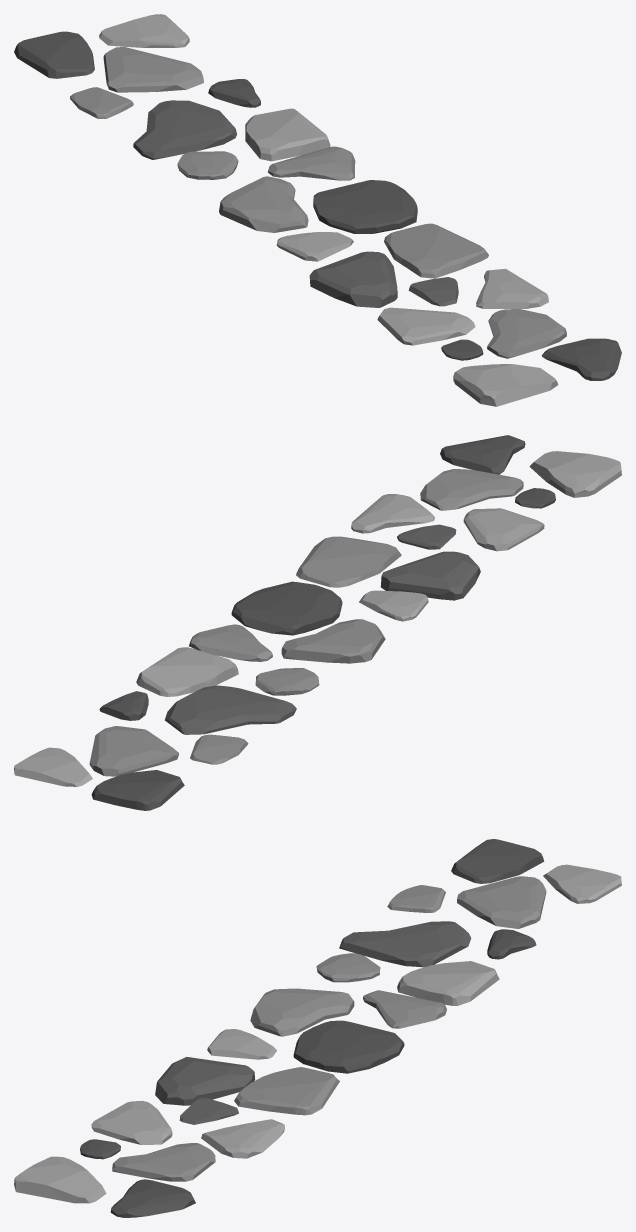
The model's file is CobbleStoneE01.fbx.
The picture shows the model from 3 angles, top to bottom: view 1: azimuth 30°, elevation 25°; view 2: azimuth 150°, elevation 25°; view 3: azimuth 330°, elevation 25°; orthographic projection. The views are drawn at different scales.
Parts seen in each view (by area): view 1: LOD0; view 2: LOD0; view 3: LOD0.
Part boxes in pixels (bbox=[...]): LOD0: bbox=[14, 14, 621, 406]; LOD0: bbox=[14, 435, 621, 810]; LOD0: bbox=[14, 839, 621, 1217].
Size of what is drawn, in the model's own units: 259 by 1324 by 21.76.
